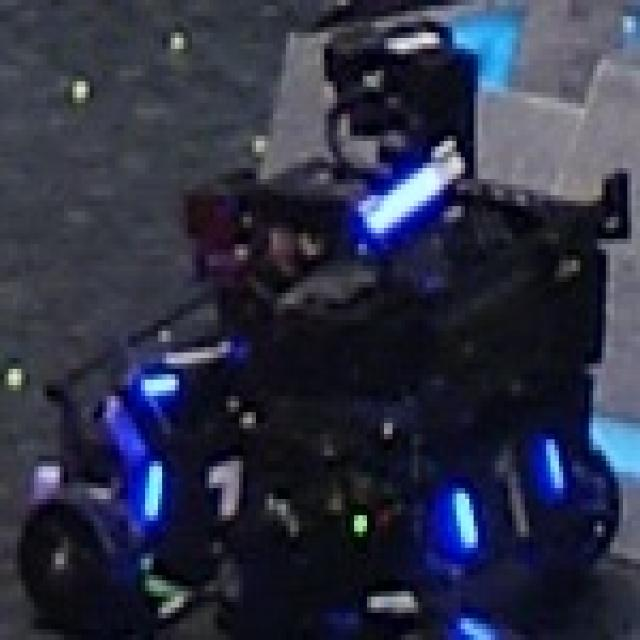B1: (444, 428, 567, 548)
